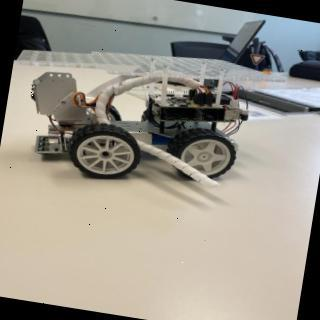vehicle: (3, 31, 271, 205)
